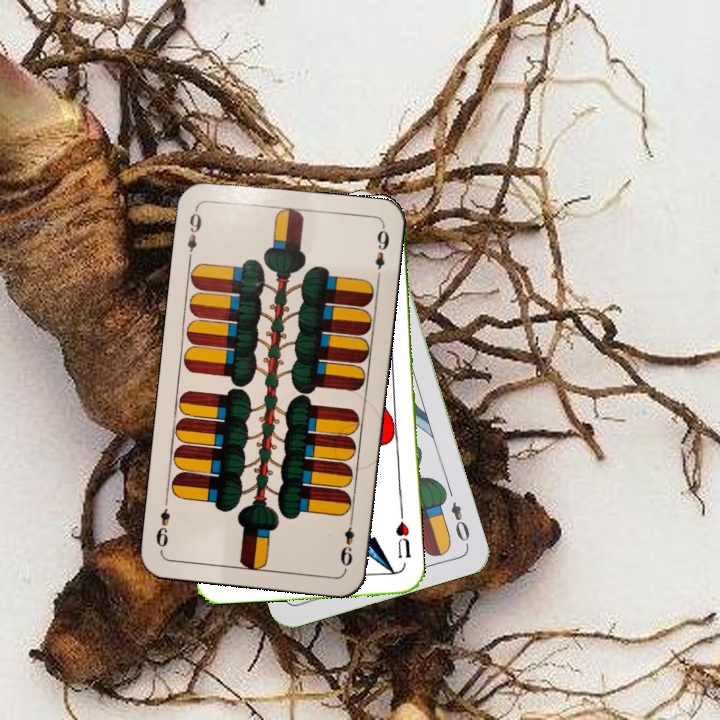E9: (336, 512, 357, 571), (183, 204, 204, 263)
EO: (446, 497, 473, 544)
HU: (392, 509, 413, 561)
